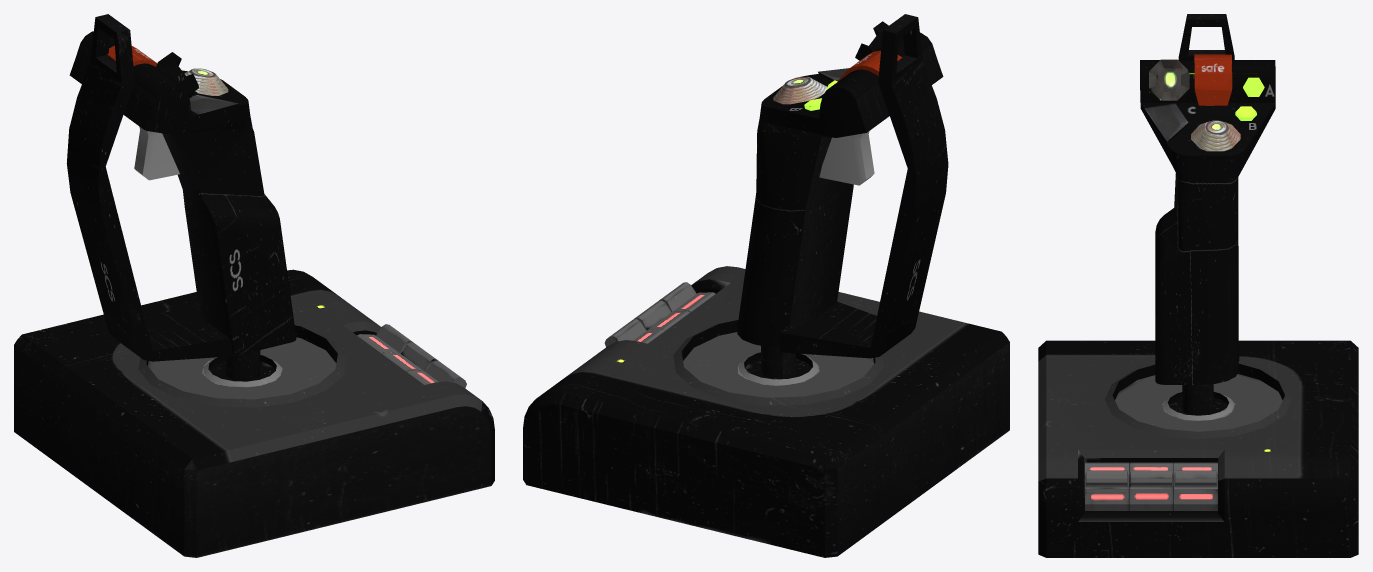
The model's file is scsstickclean.fbx.
3 renders of one model, left to right at view 1: azimuth 30°, elevation 25°; view 2: azimuth 150°, elevation 25°; view 3: azimuth 270°, elevation 25°, orthographic. The views are drawn at different scales.
Visible parts, largest first — view 1: StickBase, Stick, Trigger; view 2: StickBase, Stick, Trigger; view 3: StickBase, Stick.
Part boxes in pixels (x1=…): StickBase: x1=14, y1=269, x2=494, y2=557; Stick: x1=66, y1=14, x2=296, y2=381; Trigger: x1=134, y1=126, x2=179, y2=180; StickBase: x1=523, y1=266, x2=1009, y2=557; Stick: x1=737, y1=14, x2=948, y2=378; Trigger: x1=819, y1=131, x2=874, y2=185; StickBase: x1=1038, y1=340, x2=1358, y2=557; Stick: x1=1140, y1=14, x2=1275, y2=415.
Size of the model in its own units: 17.7 by 24.21 by 17.
